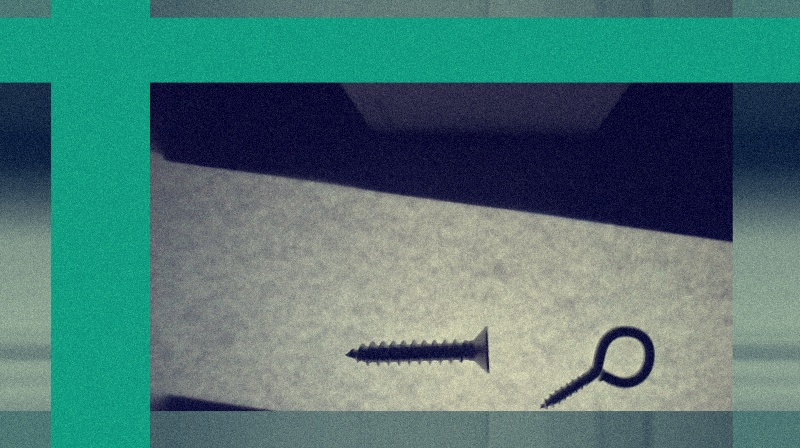O001: (540, 327, 655, 410)
S001: (342, 324, 492, 374)
